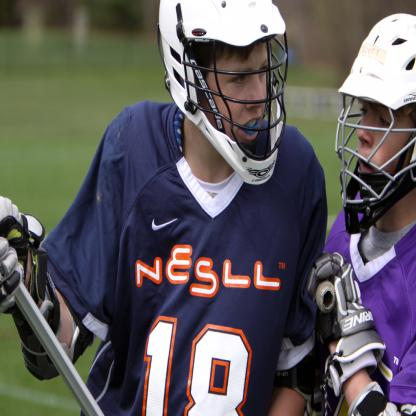Helmet: (157, 0, 288, 186), (338, 14, 416, 240)
